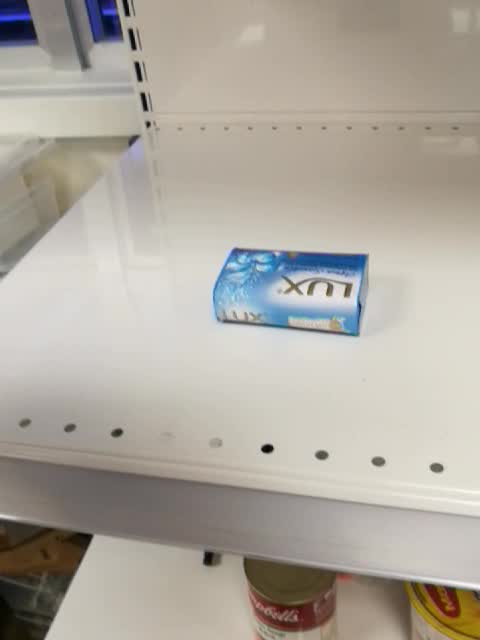soap: (210, 245, 370, 340)
